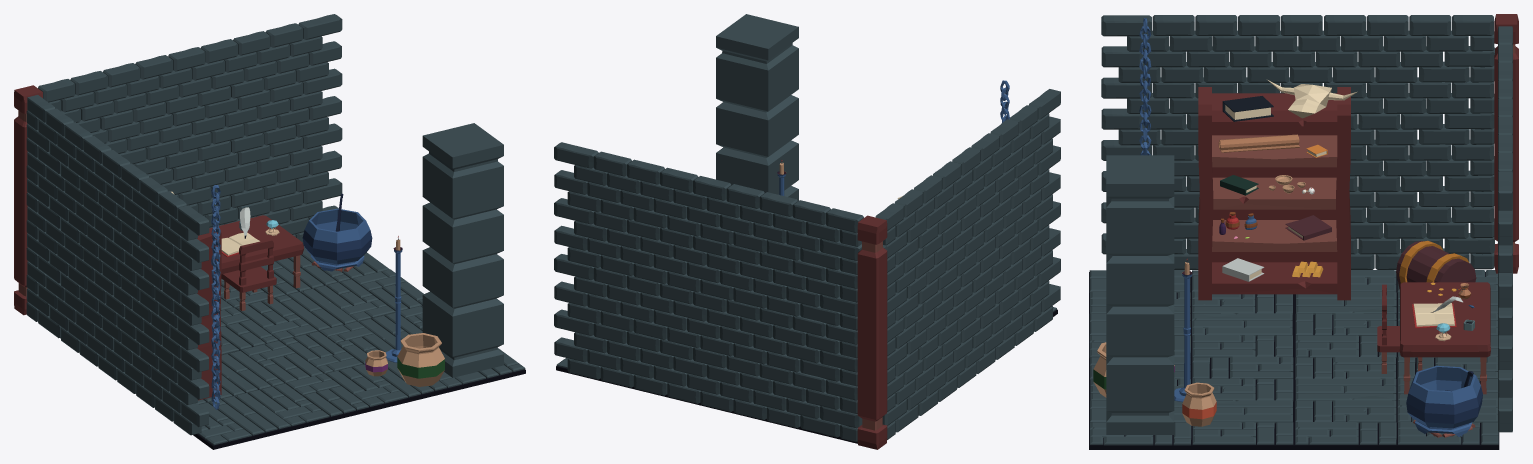
File: dungeon.glb
3 views of the same model, side by side, from view 1: azimuth 30°, elevation 25°; view 2: azimuth 150°, elevation 25°; view 3: azimuth 270°, elevation 25° (orthographic). The views are drawn at different scales.
Parts seen in each view (by area): view 1: Wall, Wall.001, Floor, Pillar, Cauldron, WallCorner, Table, Vase_v1, Chair, Chain, Dirt, Bookcase (+3 smaller); view 2: Wall.001, Wall, Pillar, WallCorner, Dirt; view 3: Wall, Floor, Bookcase, Pillar, Wall.001, Table, Dirt, Cauldron, WallCorner, Chest, BullSkull, Vase_v2 (+10 smaller).
Boxes of the visible parts, <box> form: Wall: <box>26,95,209,435</box>; Wall.001: <box>38,14,342,244</box>; Floor: <box>197,247,525,445</box>; Pillar: <box>422,123,503,377</box>; Cauldron: <box>302,208,372,271</box>; WallCorner: <box>14,85,42,315</box>; Table: <box>209,215,303,288</box>; Vase_v1: <box>397,333,444,386</box>; Chair: <box>221,239,276,310</box>; Chain: <box>211,185,220,409</box>; Dirt: <box>193,285,525,449</box>; Bookcase: <box>197,229,221,400</box>; Wall.001: <box>554,142,863,441</box>; Wall: <box>875,89,1060,439</box>; Pillar: <box>716,14,798,200</box>; WallCorner: <box>857,215,887,449</box>; Dirt: <box>556,309,1057,443</box>; Wall: <box>1101,15,1494,269</box>; Floor: <box>1089,270,1498,445</box>; Bookcase: <box>1198,87,1350,300</box>; Pillar: <box>1106,155,1174,434</box>; Wall.001: <box>1498,26,1512,432</box>; Table: <box>1399,282,1490,394</box>; Dirt: <box>1089,272,1499,449</box>; Cauldron: <box>1406,365,1482,436</box>; WallCorner: <box>1494,14,1518,273</box>; Chest: <box>1396,240,1476,288</box>; BullSkull: <box>1268,80,1357,118</box>; Vase_v2: <box>1182,382,1216,426</box>.
Bounding box in the file's own units: 12.56 × 8.88 × 12.67.
11 materials, 11 textured.
